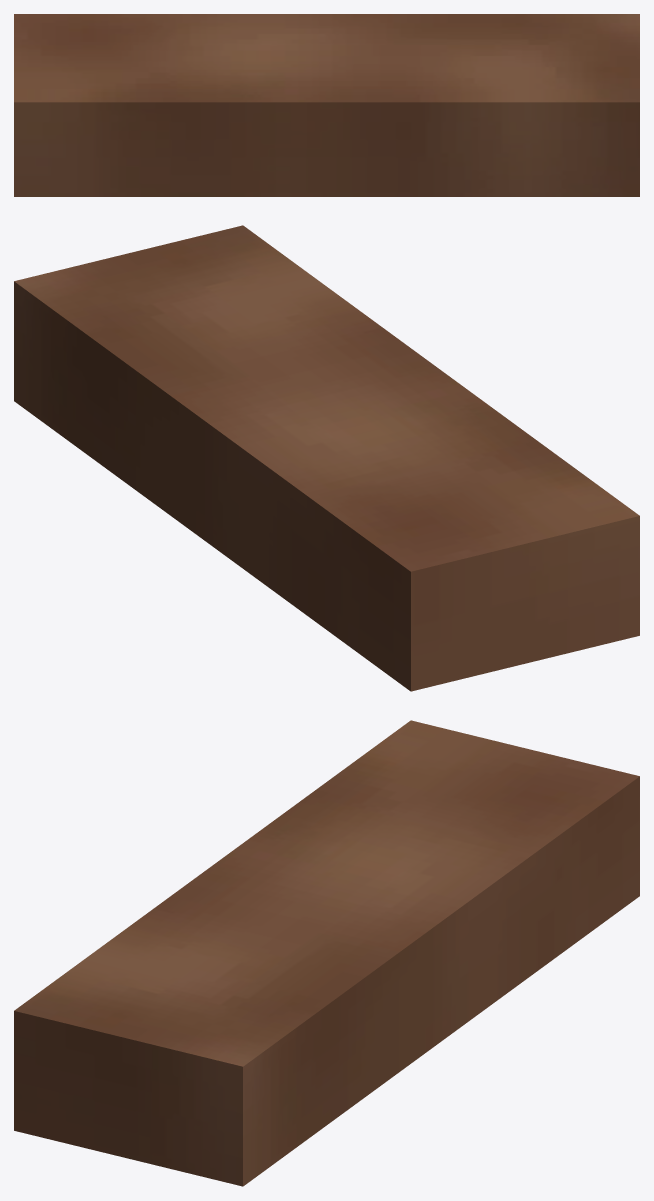
Rendered from body__gauge_tick_4.glb.
3 views of the same model, one above another, from view 1: azimuth 30°, elevation 25°; view 2: azimuth 150°, elevation 25°; view 3: azimuth 270°, elevation 25° (orthographic). The views are drawn at different scales.
Visible parts, largest first — view 1: geometry_0; view 2: geometry_0; view 3: geometry_0.
Boxes of the visible parts, x1,y1,x2,y2 form: geometry_0: (14,14,639,196); geometry_0: (14,225,639,691); geometry_0: (14,720,639,1186).
Size of the model in its own units: 0.0124 by 0.002 by 0.00946.
Materials: 1 (1 with a texture image).
